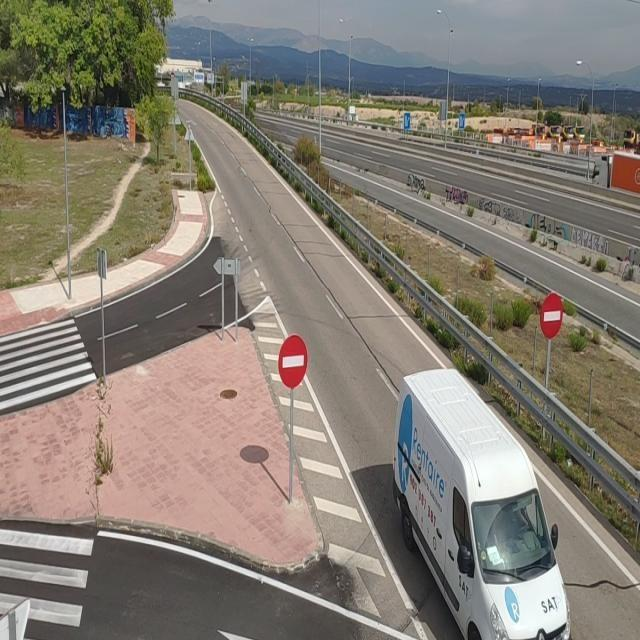Truck: (396, 369, 570, 640)
